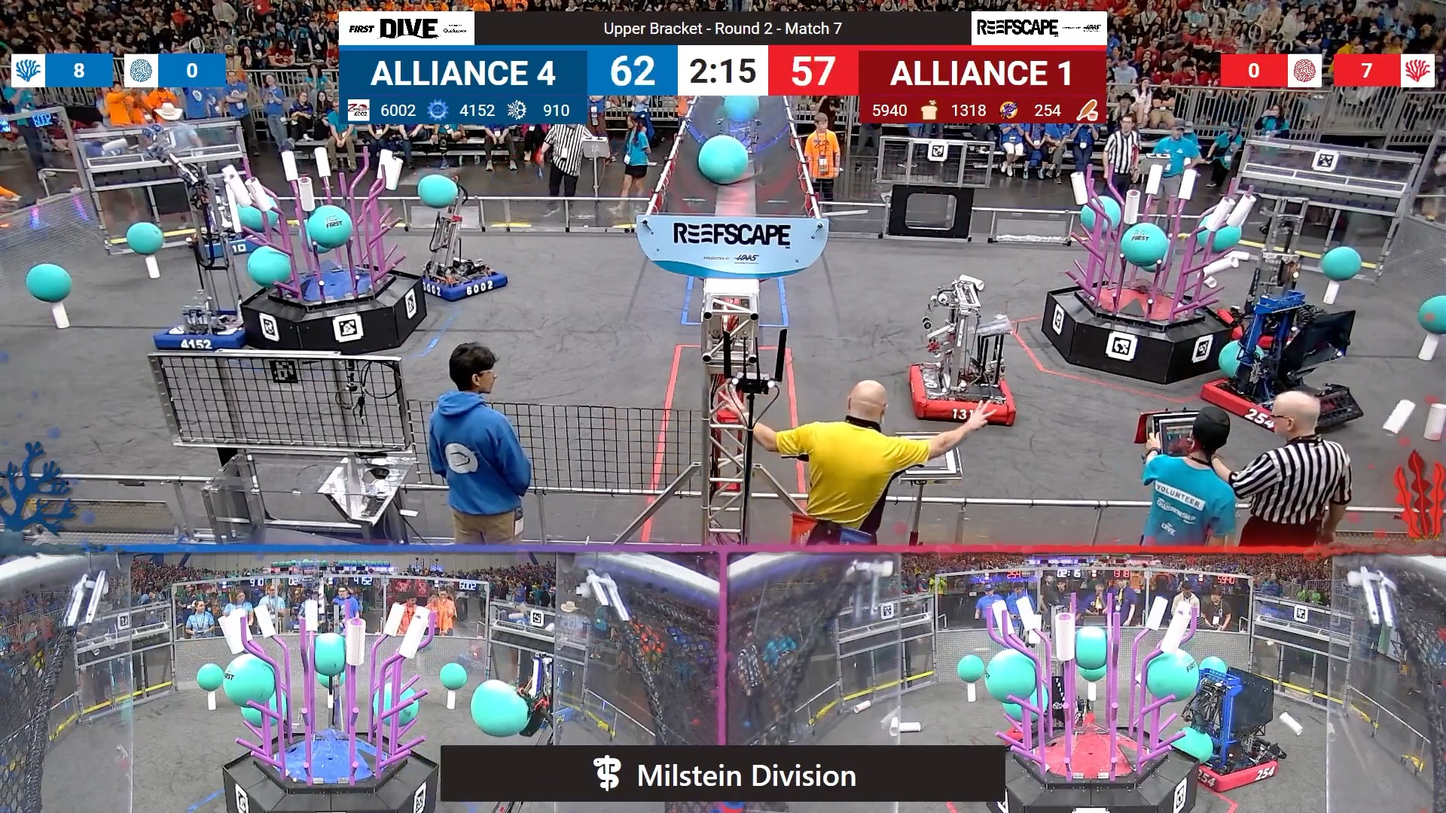bumpers: (1194, 370, 1356, 434), (906, 366, 1024, 431), (1179, 742, 1284, 791), (157, 305, 251, 351), (412, 261, 517, 302), (190, 236, 270, 266)
